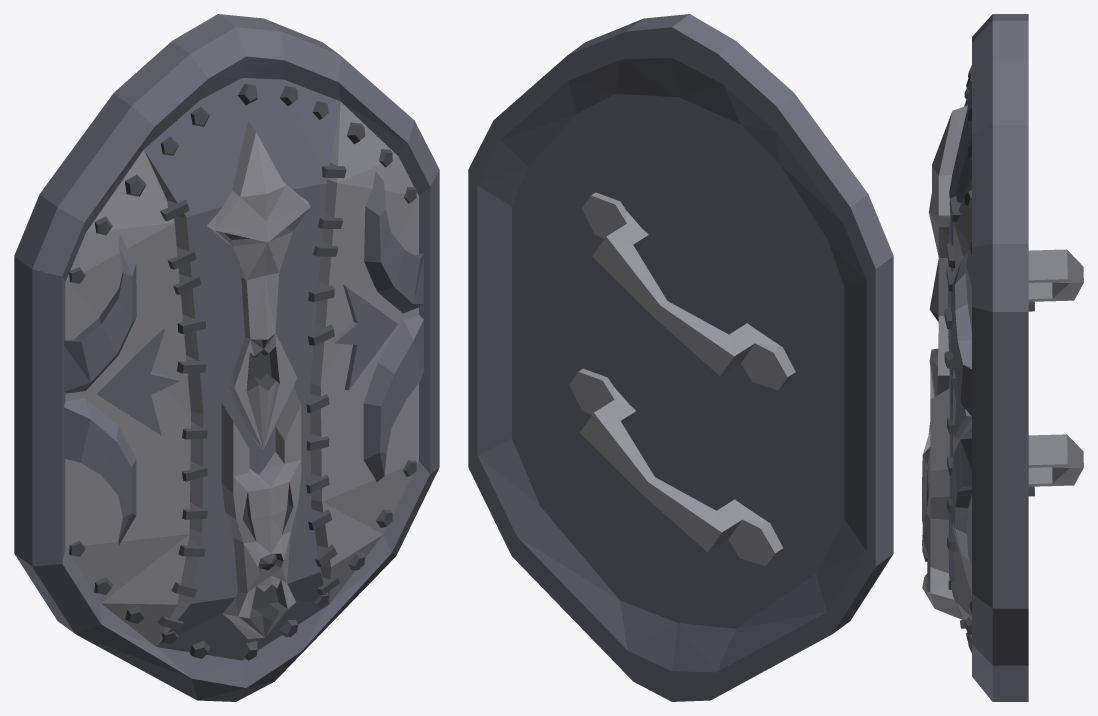
Rendered from shield_shield_16.glb.
3 renders of one model, left to right at view 1: azimuth 30°, elevation 25°; view 2: azimuth 150°, elevation 25°; view 3: azimuth 270°, elevation 25°, orthographic.
Parts seen in each view (by area): view 1: shield_16; view 2: shield_16; view 3: shield_16.
Boxes of the visible parts, <box> form: shield_16: <box>14,14,439,701</box>; shield_16: <box>468,14,893,701</box>; shield_16: <box>922,14,1083,701</box>.
Bounding box in the file's own units: 59.6 × 94.28 × 20.55.
Materials: 1 (1 with a texture image).
